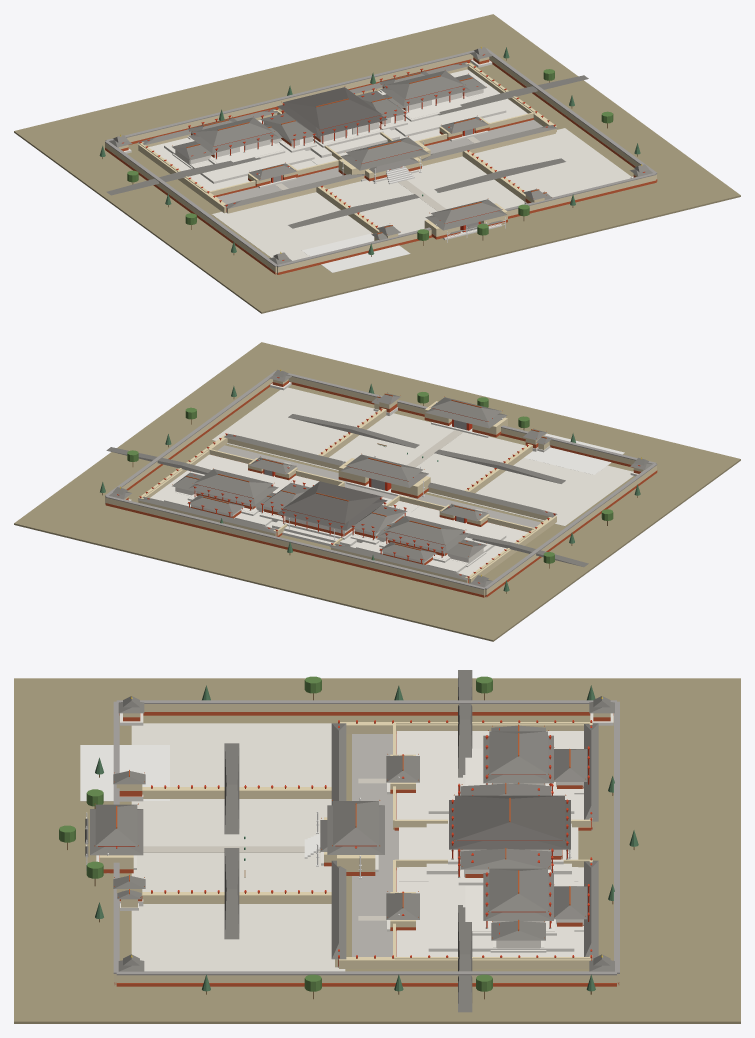
The model's file is 西周宗庙建筑.glb.
3 views of the same model, one above another, from view 1: azimuth 30°, elevation 25°; view 2: azimuth 150°, elevation 25°; view 3: azimuth 270°, elevation 25° (orthographic). The views are drawn at different scales.
Visible parts, largest first — view 1: 大地, 外院铺地, 正寝_顶_上瓦, 内院铺地, 外墙N, 外墙S, 庙台2, 池沿, 祖台2, 外压N, 庙正殿_顶_上瓦, 祖正殿_顶_上瓦 (+35 smaller); view 2: 大地, 外院铺地, 正寝_顶_上瓦, 外墙N, 内院铺地, 池沿, 外墙S, 外压N, 庙台2, 庙台1, 祖正殿_顶_上瓦, 庙正殿_顶_上瓦 (+39 smaller); view 3: 大地, 外院铺地, 内院铺地, 正寝_顶_上瓦, 祖台2, 外墙E, 池沿, 外墙W, 庙台1, 祖台1, 庙台2, 祖正殿_顶_上瓦 (+40 smaller).
Boxes of the visible parts, x1=… form: 大地: x1=14, y1=14, x2=740, y2=313; 外院铺地: x1=212, y1=128, x2=631, y2=260; 正寝_顶_上瓦: x1=283, y1=87, x2=381, y2=129; 内院铺地: x1=217, y1=120, x2=542, y2=204; 外墙N: x1=127, y1=54, x2=473, y2=142; 外墙S: x1=277, y1=175, x2=656, y2=273; 庙台2: x1=164, y1=121, x2=314, y2=183; 池沿: x1=302, y1=233, x2=410, y2=272; 祖台2: x1=380, y1=74, x2=506, y2=136; 外压N: x1=105, y1=50, x2=474, y2=140; 庙正殿_顶_上瓦: x1=194, y1=117, x2=272, y2=146; 祖正殿_顶_上瓦: x1=385, y1=70, x2=464, y2=99; 大地: x1=14, y1=342, x2=740, y2=641; 外院铺地: x1=212, y1=387, x2=633, y2=526; 正寝_顶_上瓦: x1=283, y1=481, x2=381, y2=523; 外墙N: x1=105, y1=497, x2=484, y2=597; 内院铺地: x1=217, y1=445, x2=540, y2=527; 池沿: x1=524, y1=433, x2=624, y2=474; 外墙S: x1=288, y1=376, x2=635, y2=464; 外压N: x1=105, y1=496, x2=484, y2=589; 庙台2: x1=356, y1=511, x2=506, y2=572; 庙台1: x1=399, y1=501, x2=527, y2=575; 祖正殿_顶_上瓦: x1=194, y1=469, x2=272, y2=497; 庙正殿_顶_上瓦: x1=386, y1=515, x2=464, y2=544; 大地: x1=14, y1=678, x2=740, y2=1023; 外院铺地: x1=131, y1=723, x2=345, y2=971; 内院铺地: x1=352, y1=734, x2=398, y2=956; 正寝_顶_上瓦: x1=455, y1=795, x2=564, y2=840; 祖台2: x1=428, y1=876, x2=574, y2=951; 外墙E: x1=116, y1=975, x2=616, y2=982; 池沿: x1=80, y1=745, x2=169, y2=801; 外墙W: x1=144, y1=704, x2=589, y2=711; 庙台1: x1=396, y1=731, x2=583, y2=819; 祖台1: x1=396, y1=867, x2=583, y2=956; 庙台2: x1=428, y1=739, x2=574, y2=813; 祖正殿_顶_上瓦: x1=489, y1=868, x2=547, y2=911.
Size of the model in its own units: 380 by 22.22 by 340.
